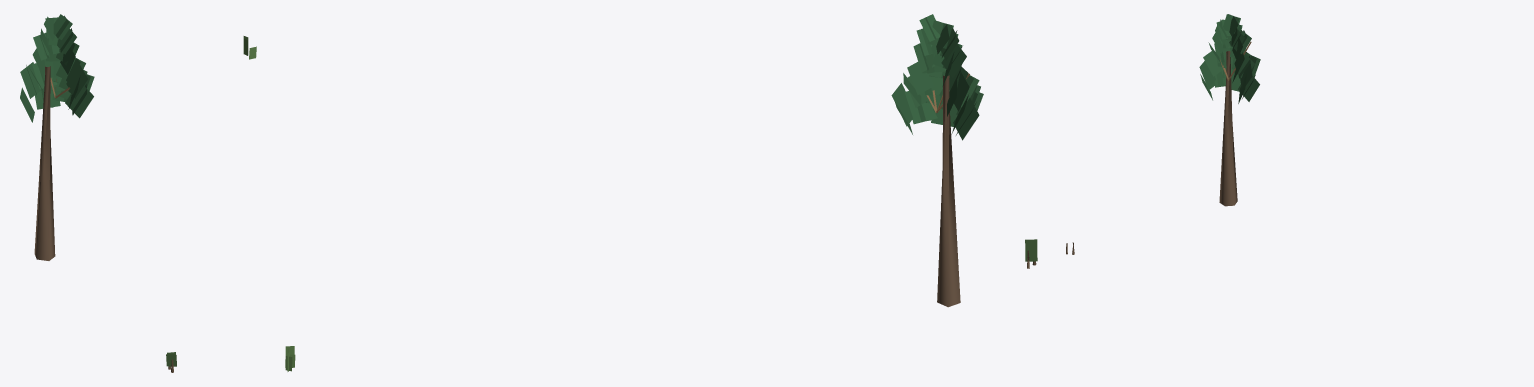
The model's file is arch_land_scatter_c23_19_lod1.glb.
3 renders of one model, left to right at view 1: azimuth 30°, elevation 25°; view 2: azimuth 150°, elevation 25°; view 3: azimuth 270°, elevation 25°, orthographic. The views are drawn at different scales.
Parts seen in each view (by area): view 1: arch_land_scatter_c23_19_lod1; view 2: arch_land_scatter_c23_19_lod1; view 3: arch_land_scatter_c23_19_lod1.
Part boxes in pixels (x1,y1,x2,y2): arch_land_scatter_c23_19_lod1: [20, 14, 256, 372]; arch_land_scatter_c23_19_lod1: [285, 14, 1037, 371]; arch_land_scatter_c23_19_lod1: [1066, 14, 1260, 254].
Size of the model in its own units: 12.78 by 8.54 by 15.18.
